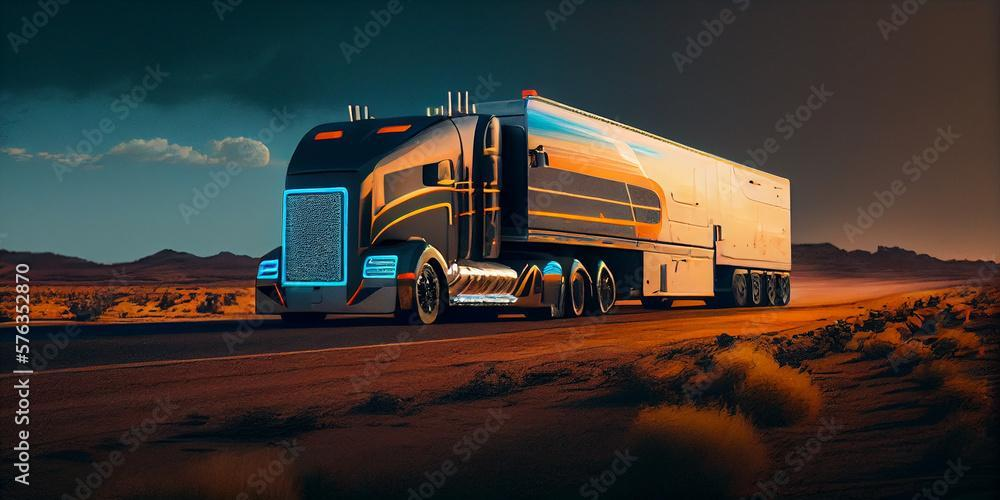truck: (248, 85, 827, 335)
